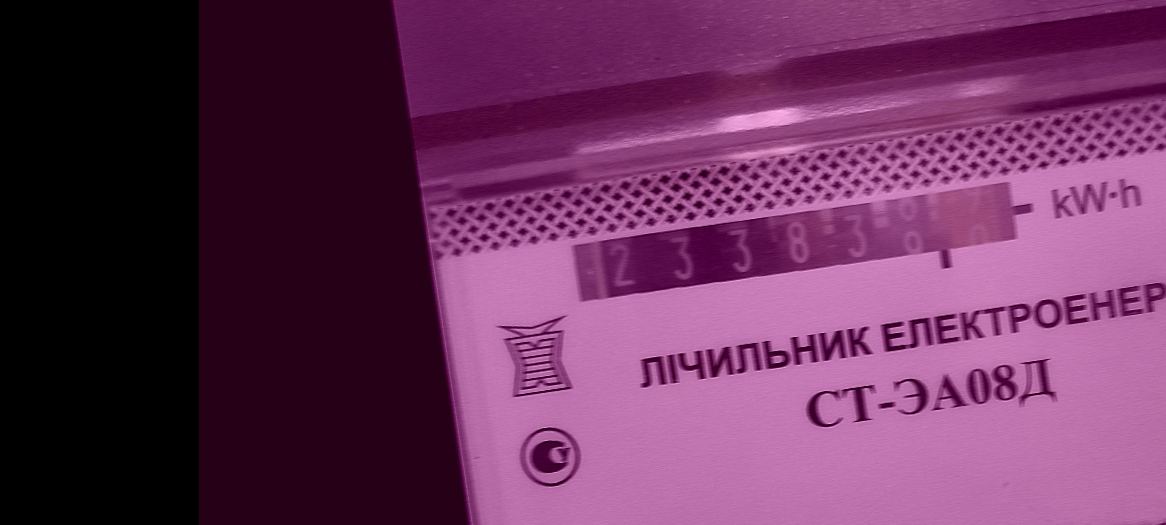0: (965, 217, 994, 245)
2: (605, 236, 640, 289)
3: (666, 229, 700, 282), (727, 222, 758, 276), (841, 207, 873, 259)
8: (783, 215, 814, 264), (894, 192, 925, 223)
9: (898, 223, 929, 256), (960, 182, 988, 214)
screen: (559, 164, 1040, 325)
